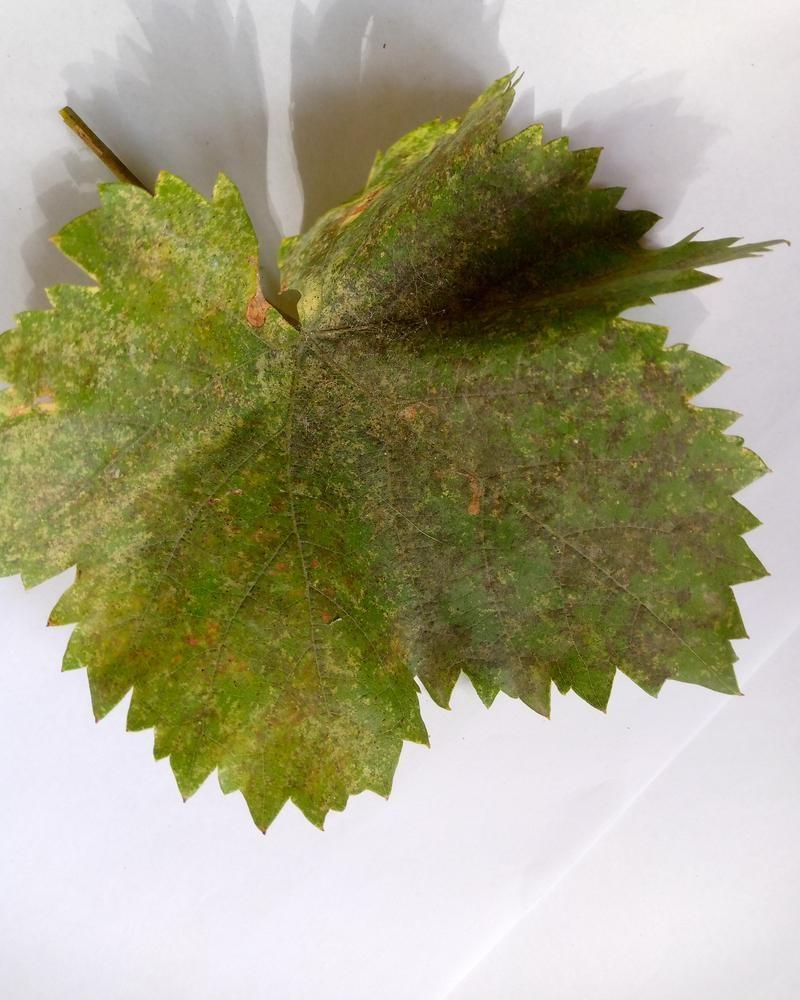Powdery-Mildew: (0, 304, 130, 551), (556, 349, 699, 486), (461, 448, 582, 553), (125, 212, 223, 329), (613, 571, 702, 686), (299, 279, 362, 342), (205, 280, 268, 343), (404, 589, 467, 652)
